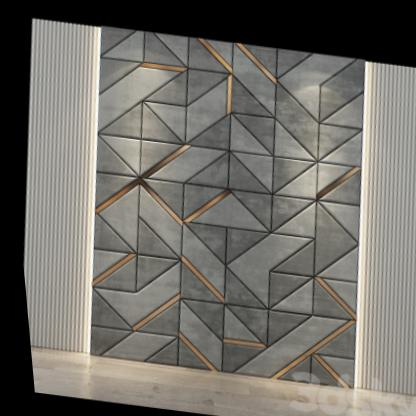Wall Panel: (1, 15, 416, 403)
